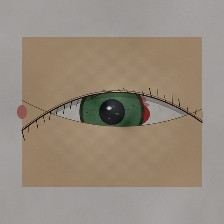hemorrhage_spot: (71, 78, 162, 151)
